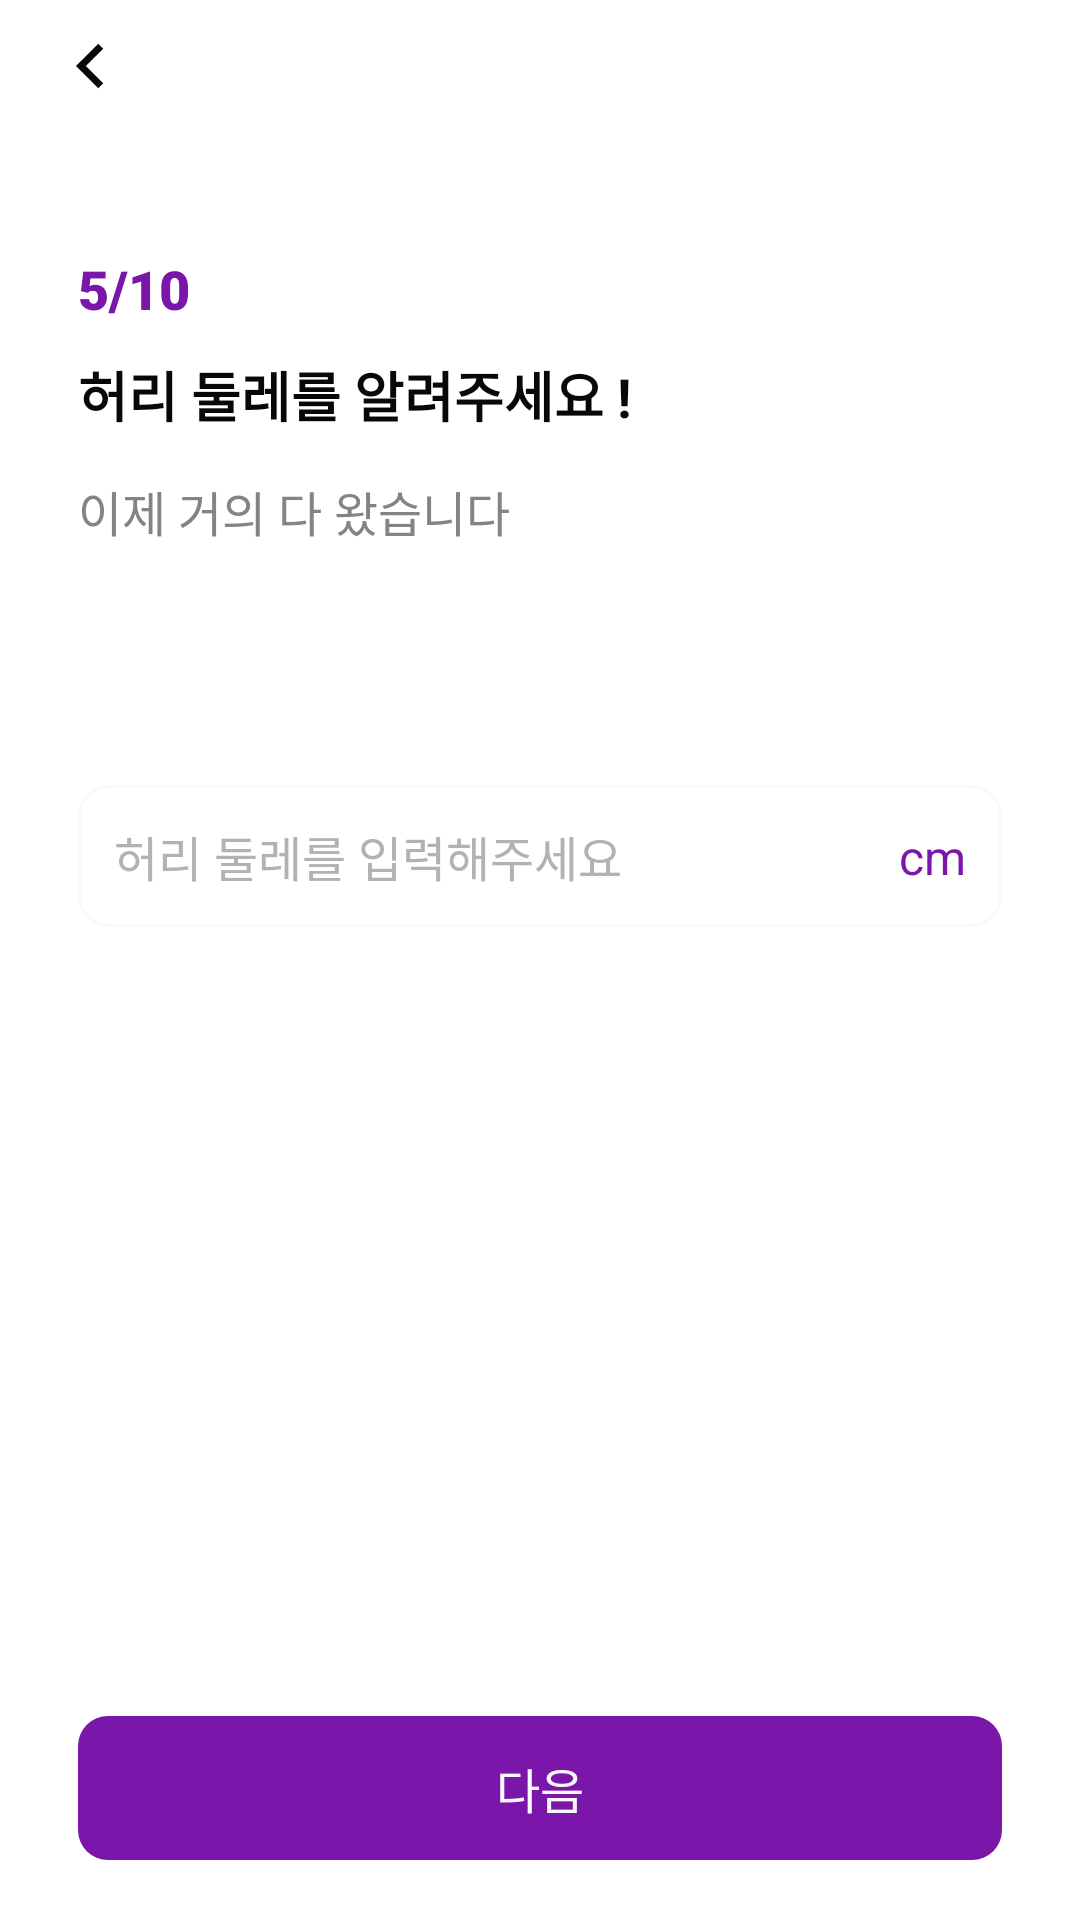

Locate icon controls on the screen. Image size 1080w x 1920h, boxes as region(x1, y1, x2, y2).
arrow: region(76, 44, 103, 88)
